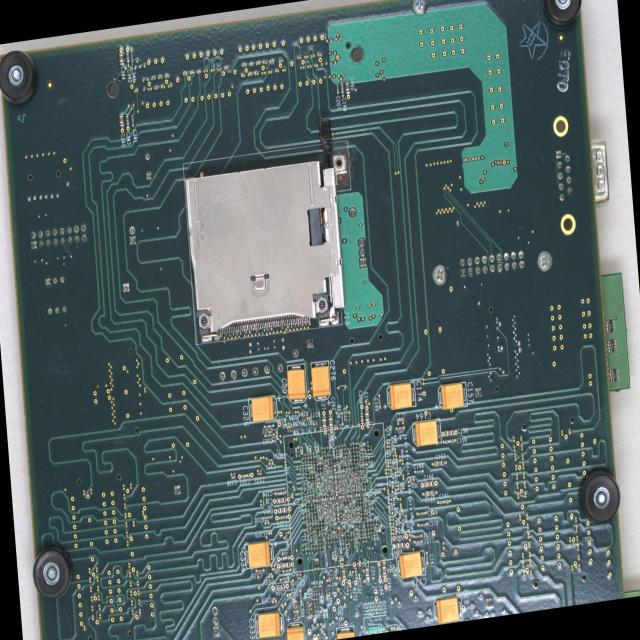Capacitor Jumper: (364, 410, 370, 423), (118, 113, 124, 126), (118, 52, 124, 64), (444, 429, 453, 437), (364, 566, 370, 578), (434, 459, 444, 466), (424, 479, 434, 486), (275, 583, 285, 590), (345, 80, 350, 94), (321, 416, 326, 429), (342, 567, 347, 580), (396, 541, 404, 549), (425, 489, 434, 496), (276, 497, 286, 503), (280, 562, 290, 568), (278, 506, 286, 513), (328, 415, 332, 428), (396, 416, 404, 422), (445, 438, 453, 444), (334, 484, 338, 496), (320, 496, 328, 502), (354, 492, 362, 498), (440, 498, 448, 504), (382, 564, 386, 576), (125, 112, 129, 124), (125, 50, 129, 61), (274, 428, 278, 439), (336, 511, 340, 522), (279, 514, 286, 520), (242, 473, 250, 478), (311, 498, 319, 503), (346, 493, 354, 498), (281, 555, 289, 560), (354, 568, 358, 578), (335, 529, 340, 536), (360, 412, 363, 423), (332, 448, 335, 459), (333, 462, 336, 473), (341, 81, 344, 92), (276, 491, 284, 495), (328, 496, 336, 500), (337, 495, 345, 499), (396, 535, 404, 539), (352, 471, 358, 476), (334, 474, 337, 484), (312, 529, 316, 536), (267, 432, 272, 437), (323, 463, 328, 468), (266, 424, 272, 428), (256, 472, 262, 476), (324, 475, 327, 483), (347, 472, 350, 480), (339, 485, 342, 493), (342, 485, 345, 493), (332, 510, 335, 518), (352, 508, 355, 516), (362, 522, 365, 530), (374, 524, 377, 532), (130, 54, 133, 61), (340, 458, 343, 465), (326, 468, 329, 475), (329, 507, 332, 514), (268, 458, 273, 462), (230, 475, 235, 479), (310, 469, 314, 474), (341, 473, 346, 477), (353, 475, 358, 479), (327, 479, 332, 483), (322, 491, 327, 495), (351, 487, 356, 491), (336, 500, 338, 510), (343, 504, 348, 508), (341, 516, 346, 520), (356, 514, 361, 518), (334, 548, 336, 558), (328, 568, 333, 572), (282, 576, 287, 580), (296, 576, 301, 580), (378, 566, 380, 576), (314, 609, 319, 613), (326, 508, 329, 514), (350, 512, 353, 518), (349, 456, 351, 464), (358, 459, 360, 467), (316, 480, 320, 484), (310, 481, 312, 489), (342, 477, 344, 485), (350, 476, 352, 484), (346, 488, 350, 492), (324, 503, 328, 507), (321, 512, 323, 520), (356, 511, 360, 515), (347, 512, 349, 520), (330, 515, 332, 523), (285, 530, 287, 538), (416, 539, 420, 543), (272, 596, 276, 600), (131, 113, 133, 121), (317, 461, 322, 464), (416, 470, 421, 473), (350, 484, 355, 487), (377, 487, 382, 490), (317, 504, 322, 507), (264, 519, 269, 522), (341, 513, 346, 516), (354, 527, 359, 530), (415, 535, 420, 538), (257, 569, 262, 572), (312, 585, 317, 588), (378, 398, 380, 405), (306, 445, 308, 452), (314, 445, 316, 452), (348, 449, 350, 456), (345, 477, 347, 484), (362, 475, 364, 482), (324, 484, 326, 491), (328, 483, 330, 490), (330, 487, 332, 494), (332, 502, 334, 509), (364, 506, 366, 513), (324, 515, 326, 522), (354, 535, 356, 542), (345, 542, 347, 549), (426, 554, 428, 561), (290, 579, 292, 586), (336, 82, 338, 89), (341, 415, 343, 421), (398, 426, 402, 429), (294, 447, 296, 453), (360, 447, 364, 450), (364, 462, 368, 465), (316, 477, 320, 480), (339, 478, 341, 484), (322, 481, 324, 487), (410, 481, 414, 484), (340, 502, 342, 508), (349, 501, 351, 507), (419, 512, 423, 515), (420, 523, 424, 526), (323, 536, 325, 542), (324, 544, 326, 550), (268, 572, 272, 575), (318, 584, 322, 587), (327, 583, 331, 586), (300, 593, 302, 599), (368, 518, 372, 520), (331, 531, 335, 533), (271, 568, 275, 570), (285, 569, 289, 571)
Connector: (182, 139, 343, 345), (588, 138, 610, 209)
Electrolytic Capacitor: (433, 592, 464, 625), (285, 362, 308, 404), (247, 394, 278, 424), (411, 417, 442, 447), (395, 550, 426, 580), (386, 380, 416, 410), (437, 381, 468, 410), (310, 359, 331, 401), (244, 540, 274, 569), (254, 610, 284, 639)
Pads: (386, 425, 389, 433), (392, 453, 395, 461), (398, 454, 401, 462), (386, 467, 389, 475), (388, 479, 391, 487), (391, 507, 394, 515), (392, 518, 395, 526), (393, 550, 396, 558), (389, 564, 395, 568), (391, 436, 394, 443), (388, 449, 391, 456), (391, 489, 394, 496), (401, 518, 404, 525), (389, 460, 391, 468), (394, 466, 396, 474), (392, 472, 394, 480), (390, 497, 392, 505), (396, 506, 398, 514), (398, 526, 400, 534), (388, 441, 390, 448), (394, 484, 396, 491), (392, 528, 394, 535)
Pins: (458, 249, 525, 278), (28, 222, 88, 250), (218, 362, 284, 382), (553, 146, 573, 204), (44, 274, 67, 316), (357, 236, 367, 268), (210, 605, 220, 636), (144, 152, 154, 182), (127, 224, 137, 245), (292, 599, 300, 620), (305, 598, 312, 618), (347, 205, 357, 218), (306, 337, 314, 349), (172, 484, 180, 496), (122, 282, 130, 293), (291, 347, 299, 358), (474, 386, 482, 397), (485, 597, 492, 607)
Resistor: (286, 428, 292, 432), (329, 573, 332, 580), (301, 418, 306, 422), (275, 448, 281, 451), (339, 588, 342, 594), (344, 414, 346, 422), (308, 425, 312, 429), (312, 419, 317, 422), (334, 419, 339, 422), (299, 427, 304, 430), (313, 597, 318, 600), (348, 414, 350, 421), (332, 573, 334, 580), (313, 589, 315, 596), (318, 589, 320, 596), (328, 587, 330, 594), (278, 415, 282, 418), (294, 427, 298, 430), (320, 589, 322, 595), (349, 588, 351, 594), (316, 602, 318, 608), (314, 602, 316, 608), (316, 589, 317, 595), (344, 588, 345, 594)
Resistor Network: (606, 319, 615, 333), (608, 338, 616, 352), (610, 368, 618, 382)
